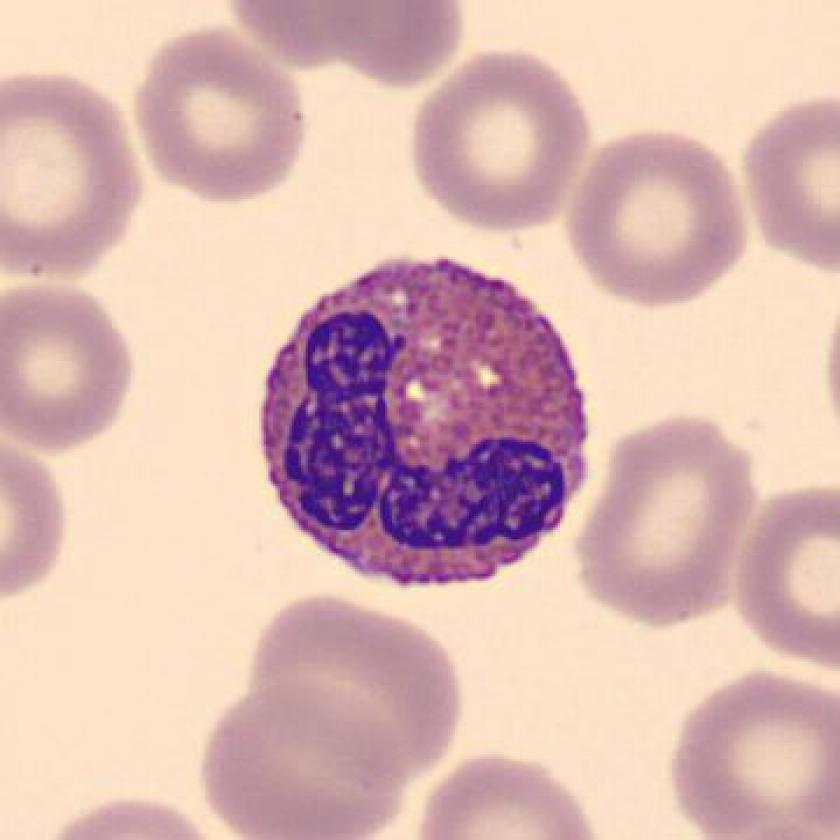eosinophil: (244, 247, 605, 608)
